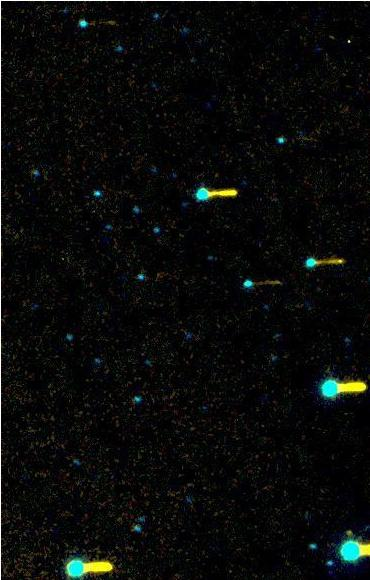star: (340, 518, 370, 548)
